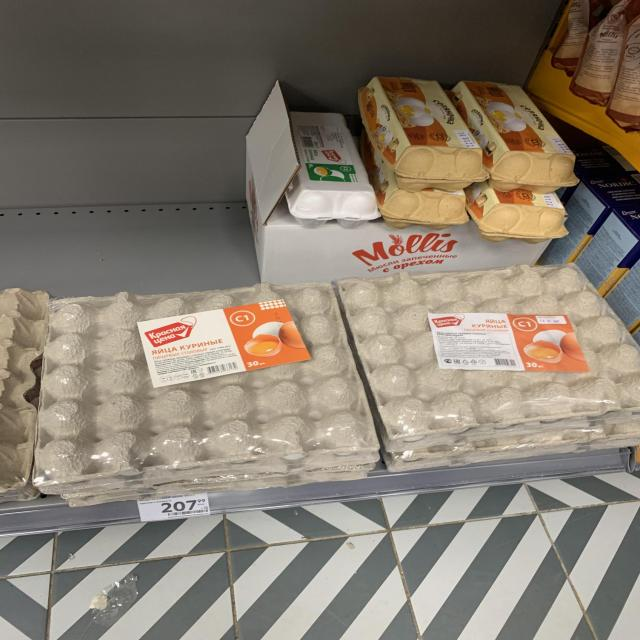organic waste: (360, 73, 481, 191), (458, 80, 573, 190), (288, 110, 378, 229), (473, 190, 563, 240), (383, 189, 466, 229)
